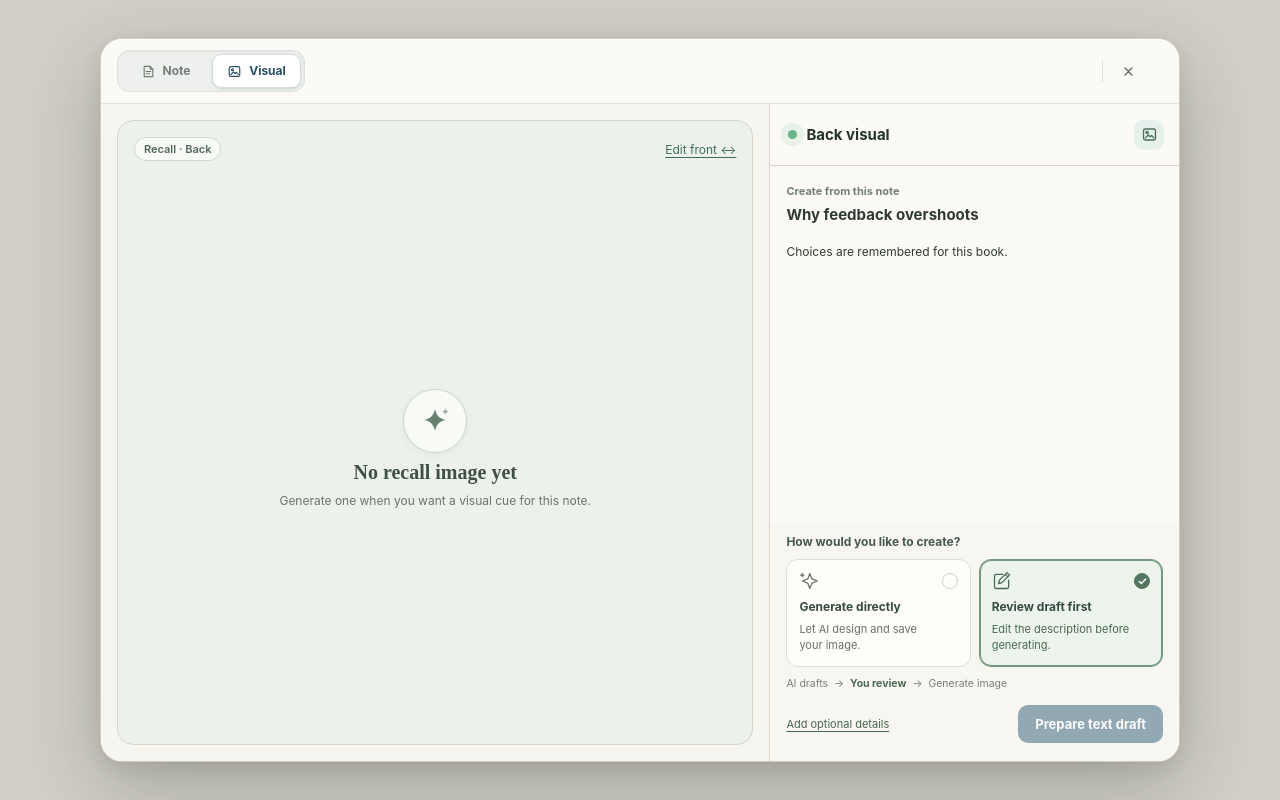
Edit is a toggle state that enters and exits editing
Click the button with aria-label "View note content".
click(211, 71)  # box x1=121 y1=54 x2=301 y2=88
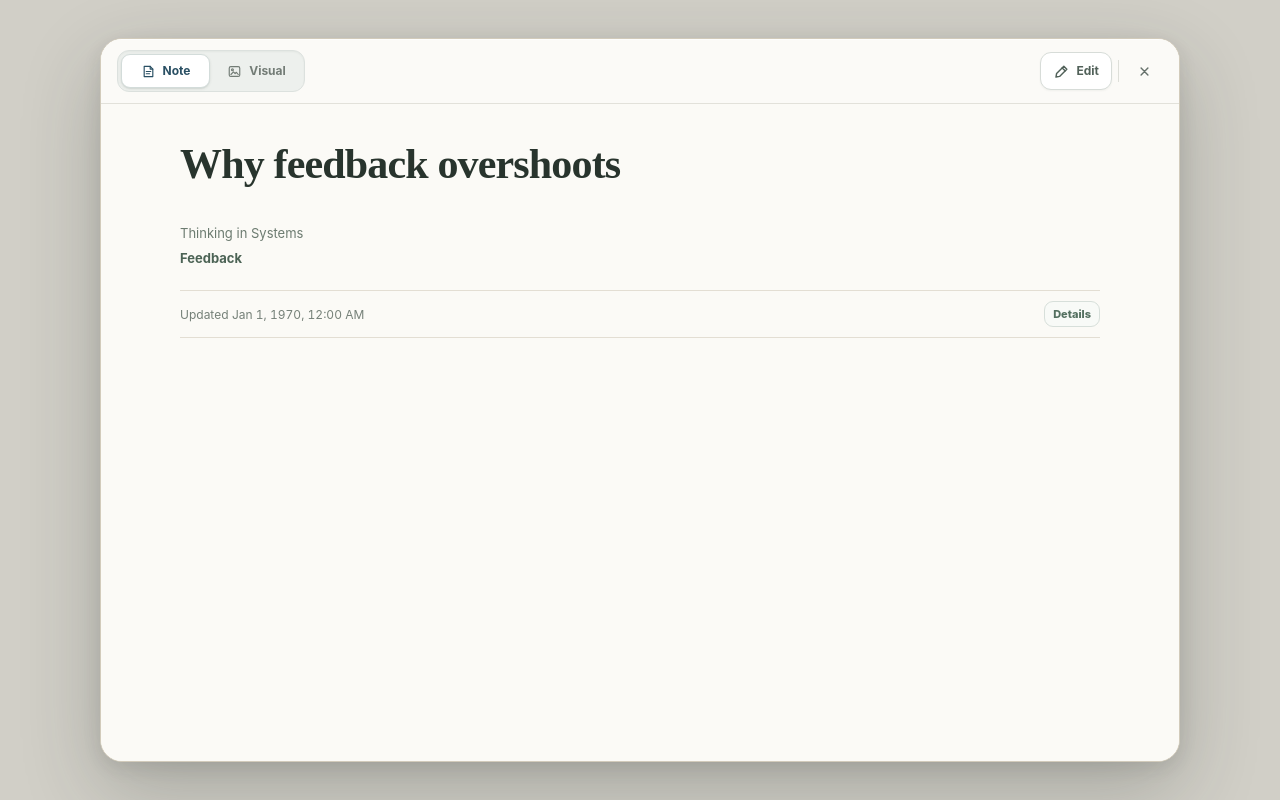
Click the button with aria-label "Enter edit mode".
click(1076, 71)  # box x1=1040 y1=52 x2=1112 y2=90
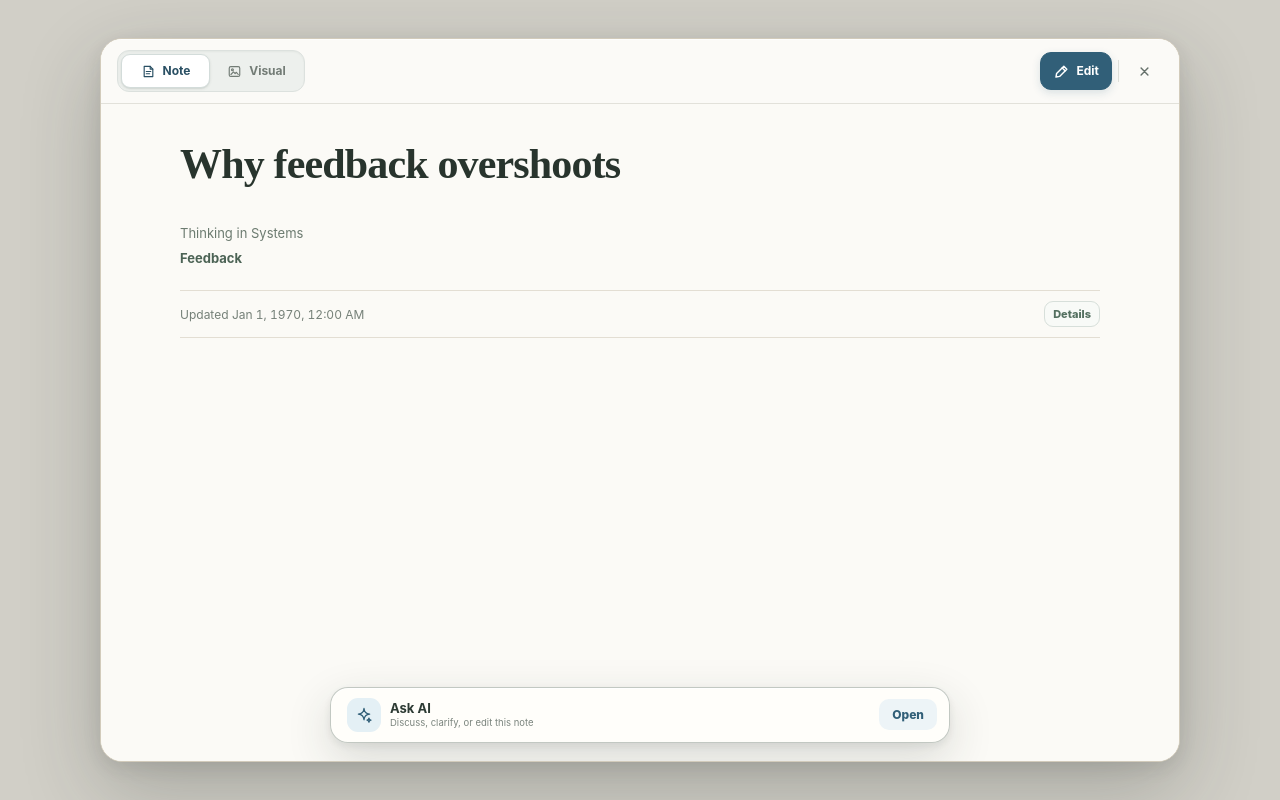
Expected: the element named "Reading note metadata" is shown, x1=180 y1=218 x2=1100 y2=338
Expected: the text "Thinking in Systems" is shown, x1=180 y1=224 x2=304 y2=244
Expected: the element named "Editable reading note" is shown
Click the button with aria-label "Exit edit mode".
click(1076, 71)  # box x1=1040 y1=52 x2=1112 y2=90
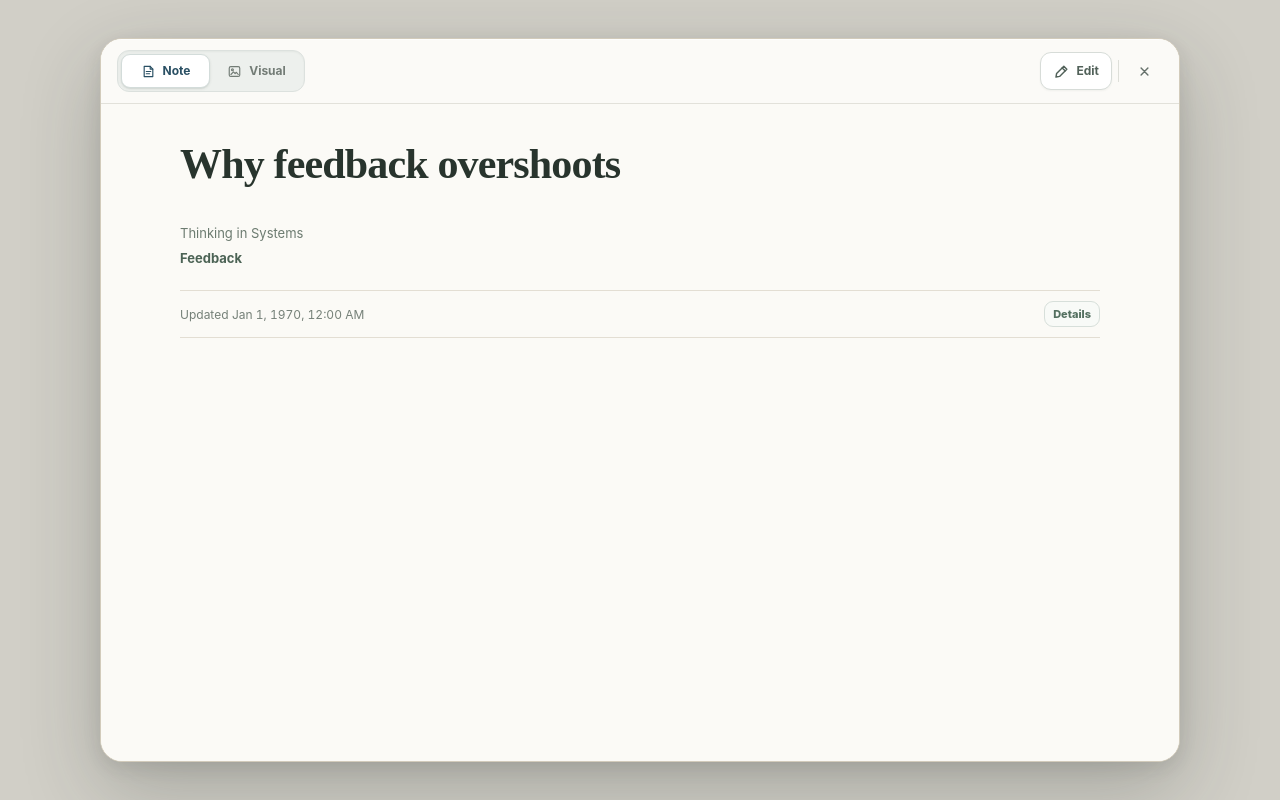
Expected: the element named "Reading note front" is shown
